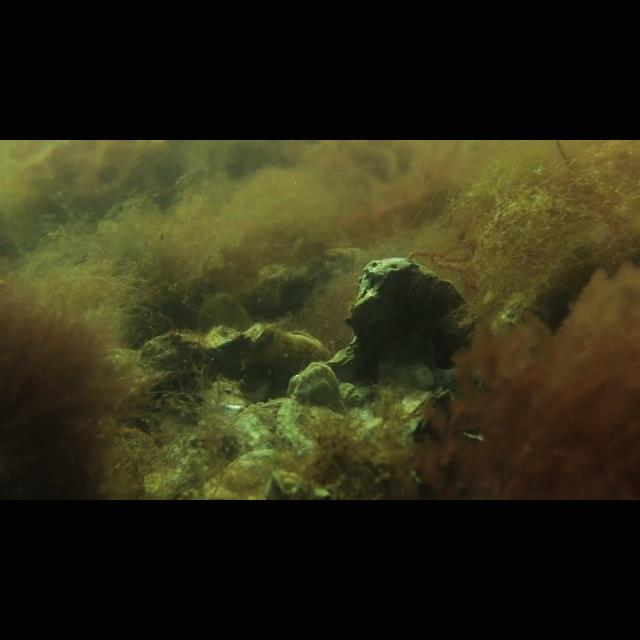Oyster-Closed: (276, 358, 351, 414), (282, 328, 335, 362), (394, 385, 439, 418), (203, 324, 244, 356), (248, 321, 269, 347)
